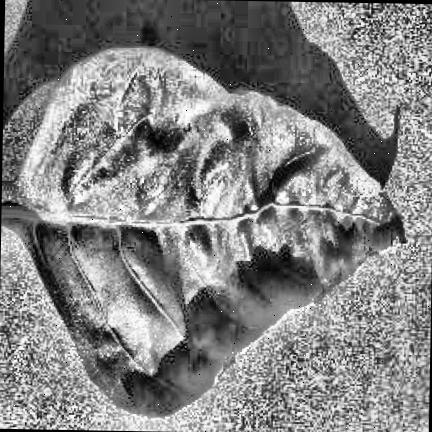leaf: (1, 49, 405, 414)
